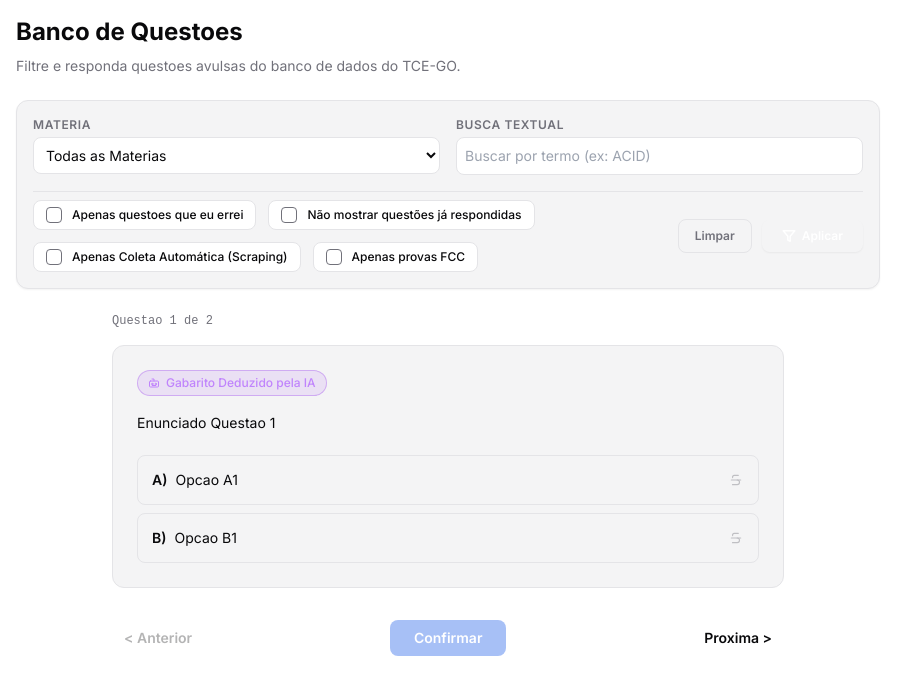
Test: BancoQuestoes - Navegacao Continua › @spec:AC-042 da feedback imediato ao confirmar e preserva estado ao voltar
Expected: the text "Enunciado Questao 1" is shown, [137, 414, 276, 431]
Note: Seleciona alternativa A
Click the text "Opcao A1": (207, 479) [175, 471, 238, 488]
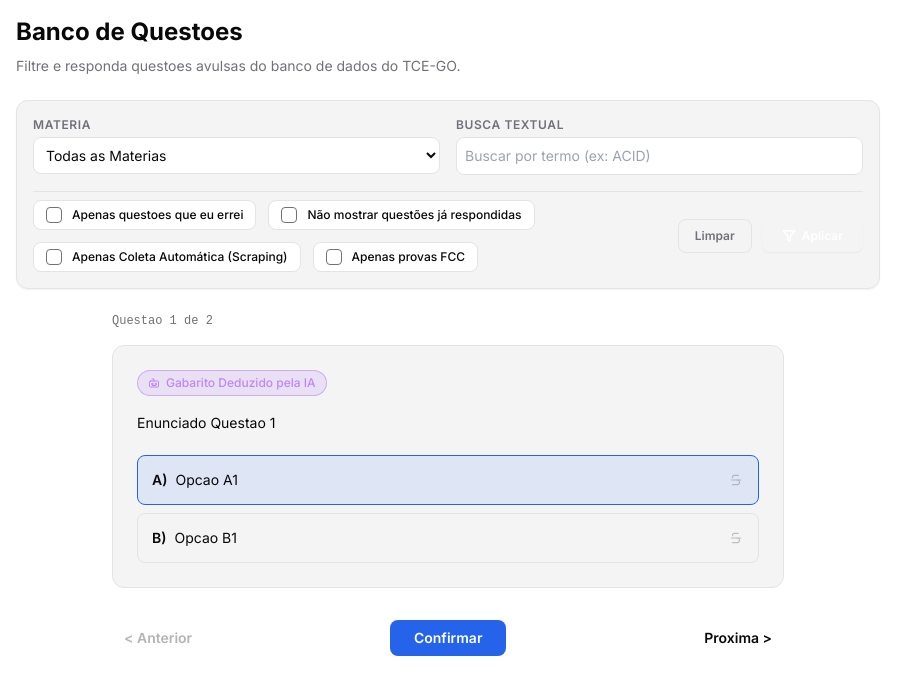
Now the button "Confirmar" is enabled
Note: Clica confirmar
Click the button "Confirmar": (448, 638) [390, 620, 506, 656]
(page scrolled)
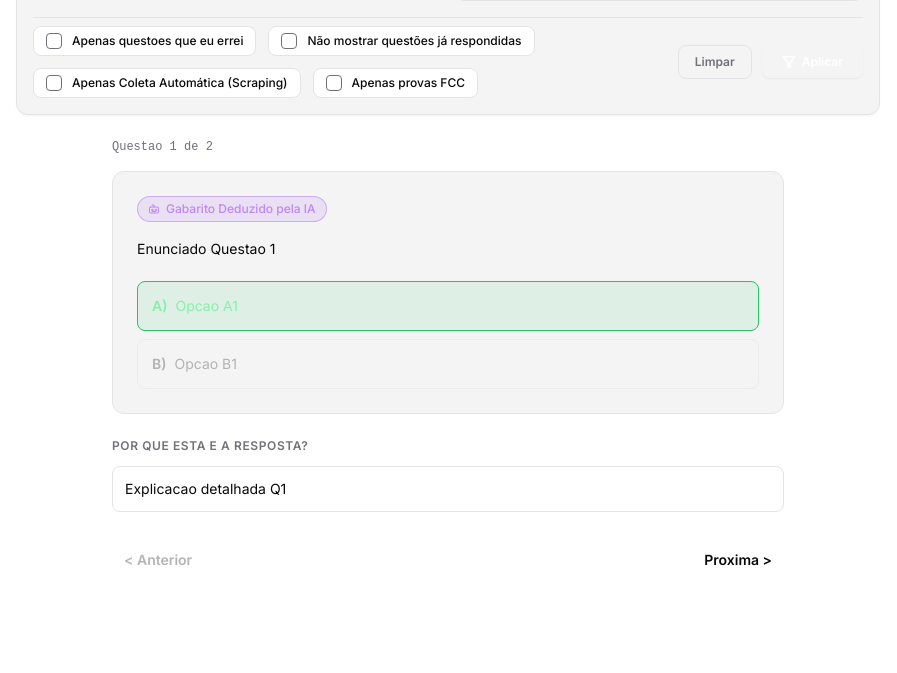
Now the text "Explicacao detalhada Q1" is shown, box [125, 480, 286, 497]
Note: Avanca para Q2
Click the button "Proxima >": (738, 560) [692, 544, 784, 576]
(page scrolled)
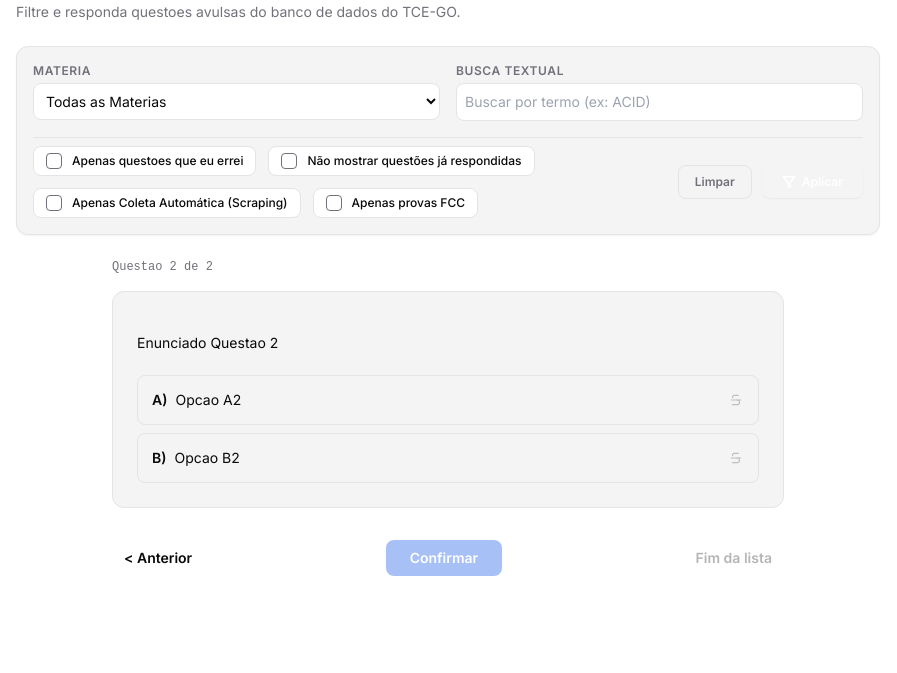
Now the text "Enunciado Questao 2" is shown, box [137, 334, 278, 351]
Note: Volta para Q1 e verifica estado preservado
Click the button "< Anterior": (158, 558) [112, 542, 204, 574]
(page scrolled)
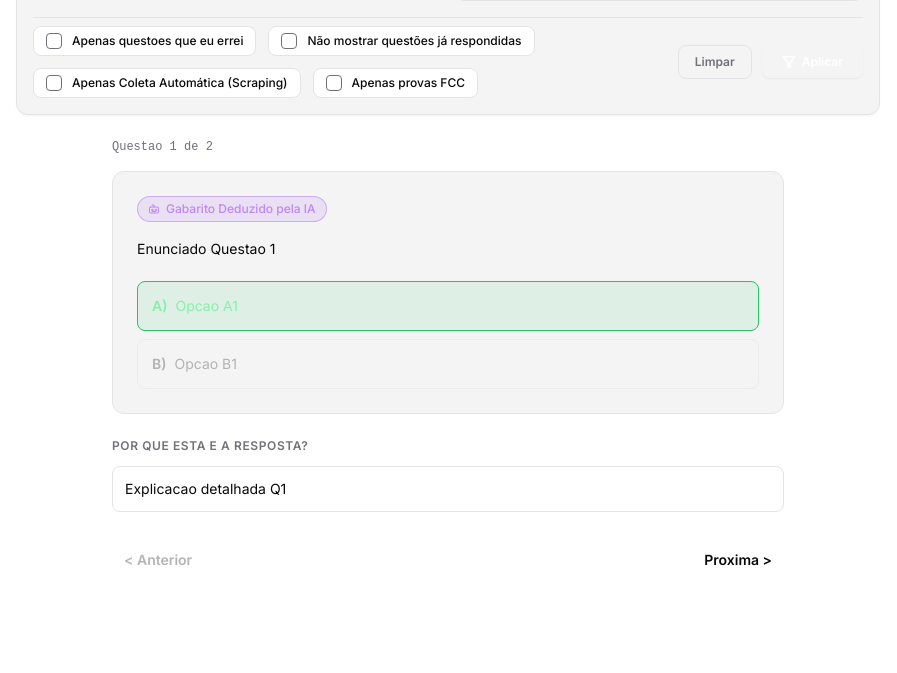
Now the text "Enunciado Questao 1" is shown, box [137, 240, 276, 257]
Now the text "Explicacao detalhada Q1" is shown, box [125, 480, 286, 497]
Now the button "Confirmar" is gone
